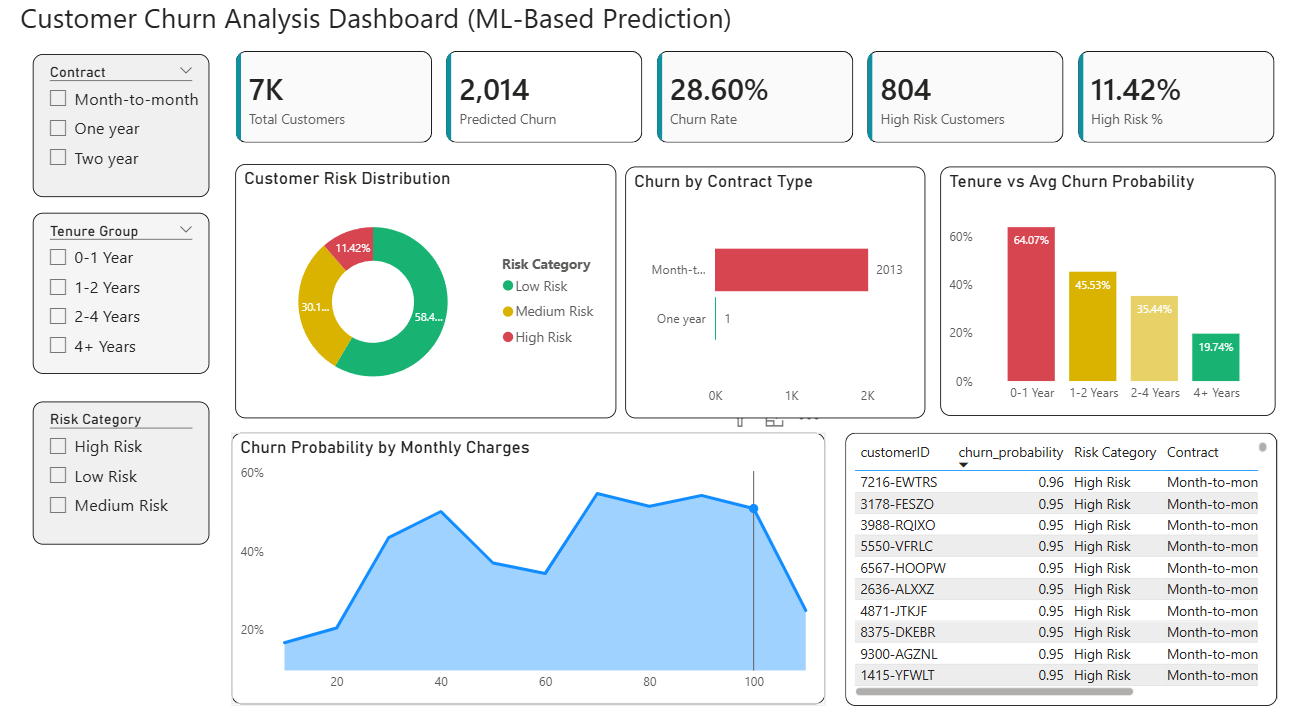

The page's visual inventory and layout, read from the dashboard file:
{"tool":"powerbi","page":{"name":"Page 2","canvas":[1280,720],"ordinal":0},"visuals":[{"type":"cardVisual","fields":{"Data":["KPI_Measures.Total Customers","KPI_Measures.Predicted Churn","KPI_Measures.Predicted Churn Rate","KPI_Measures.High Risk Customers","KPI_Measures.High Risk %"]},"box":[226.3,45.8,1038.7,110.6],"z":0},{"type":"group","id":"g1","title":"Group 1","box":[232.7,429.7,581,265.7],"z":1000},{"type":"group","id":"g2","title":"Group 2","box":[236.5,166.5,1017.8,249.2],"z":2000},{"type":"columnChart","title":"Tenure vs Avg Churn Probability","fields":{"Category":["churn_pipeline cleaned_customers.Tenure Group"],"Y":["KPI_Measures.Avg Churn Probability"]},"box":[926.2,169.3,328,244.1],"z":2000,"group":"g2"},{"type":"textbox","box":[20.3,0,793.3,45.8],"z":3000},{"type":"areaChart","title":"Churn Probability by Monthly Charges","fields":{"Category":["churn_pipeline cleaned_customers.MonthlyCharges (bins)"],"Y":["KPI_Measures.Avg Churn Probability"]},"box":[232.7,429.7,581,265.7],"z":3000,"group":"g1"},{"type":"group","id":"g3","title":"Group 3","box":[38.1,213.6,172.9,324.2],"z":4000},{"type":"slicer","fields":{"Values":["churn_pipeline cleaned_customers.Tenure Group"]},"box":[38.1,213.6,172.9,157.6],"z":4000,"group":"g3"},{"type":"slicer","fields":{"Values":["churn_pipeline churn_predictions.Risk Category"]},"box":[38.1,397.9,172.9,139.8],"z":5000,"group":"g3"},{"type":"tableEx","fields":{"Values":["churn_pipeline cleaned_customers.customerID","churn_pipeline churn_predictions.churn_probability","churn_pipeline churn_predictions.Risk Category","churn_pipeline cleaned_customers.Contract","churn_pipeline cleaned_customers.MonthlyCharges","churn_pipeline cleaned_customers.tenure"]},"box":[832.7,429.7,422.1,267],"z":5000},{"type":"slicer","fields":{"Values":["churn_pipeline cleaned_customers.Contract"]},"box":[38.1,58.5,172.9,139.8],"z":6000},{"type":"barChart","title":"Churn by Contract Type","fields":{"Category":["churn_pipeline cleaned_customers.Contract"],"Y":["KPI_Measures.Predicted Churn"]},"box":[618.6,168.3,293.7,246.6],"z":6000,"group":"g2"},{"type":"donutChart","title":"Customer Risk Distribution","fields":{"Category":["churn_pipeline churn_predictions.Risk Category"],"Y":["CountNonNull(churn_pipeline churn_predictions.customerID)"]},"box":[236.5,166.5,372.9,249.2],"z":7000,"group":"g2"}]}

Visuals, with their boxes in screenshot pixels (x1, y1, x2, y2), scaled from the page's 1280x720 canvas onto the 1293x722 screenshot:
cardVisual - KPI_Measures.Total Customers x KPI_Measures.Predicted Churn: bbox=[229, 46, 1278, 157]
"Group 1" group: bbox=[235, 431, 822, 697]
"Group 2" group: bbox=[239, 167, 1267, 417]
"Tenure vs Avg Churn Probability" columnChart: bbox=[936, 170, 1267, 415]
textbox: bbox=[21, 0, 822, 46]
"Churn Probability by Monthly Charges" areaChart: bbox=[235, 431, 822, 697]
"Group 3" group: bbox=[38, 214, 213, 539]
slicer - churn_pipeline cleaned_customers.Tenure Group: bbox=[38, 214, 213, 372]
slicer - churn_pipeline churn_predictions.Risk Category: bbox=[38, 399, 213, 539]
tableEx - churn_pipeline cleaned_customers.customerID x churn_pipeline churn_predictions.churn_probability: bbox=[841, 431, 1268, 699]
slicer - churn_pipeline cleaned_customers.Contract: bbox=[38, 59, 213, 199]
"Churn by Contract Type" barChart: bbox=[625, 169, 922, 416]
"Customer Risk Distribution" donutChart: bbox=[239, 167, 616, 417]
